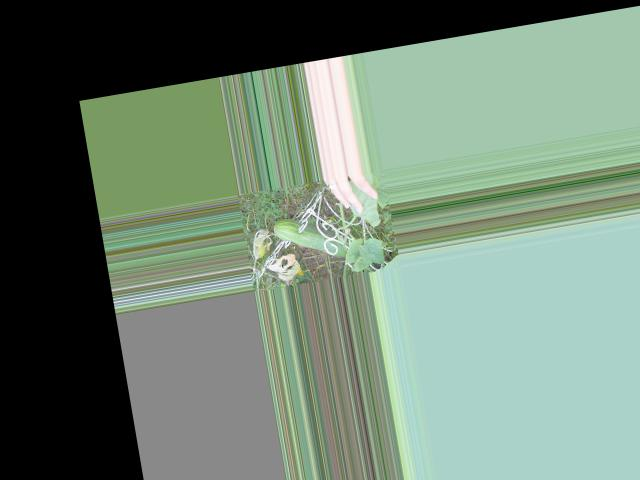cucumber: (272, 209, 349, 267)
